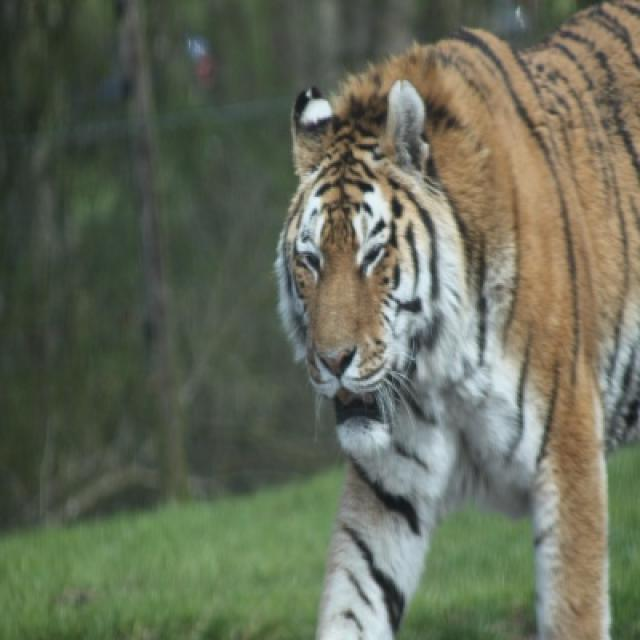Tiger: (288, 0, 638, 638)
